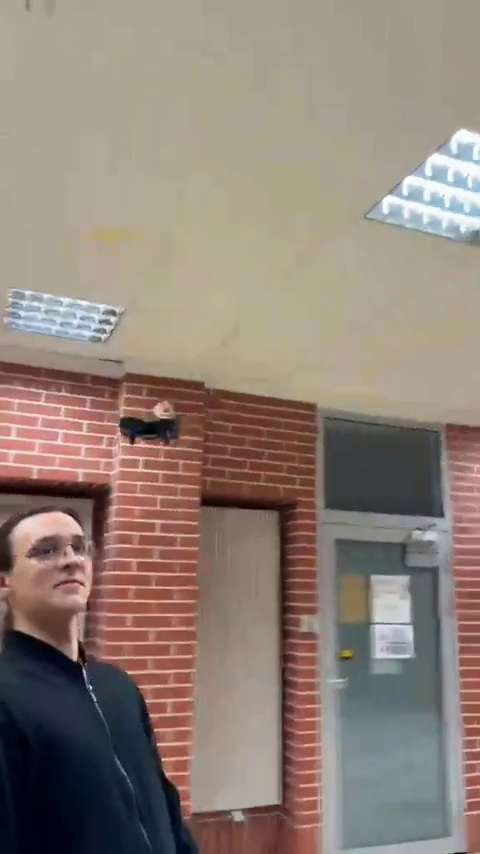drone: (120, 417, 186, 443)
no vest: (0, 508, 203, 854)
